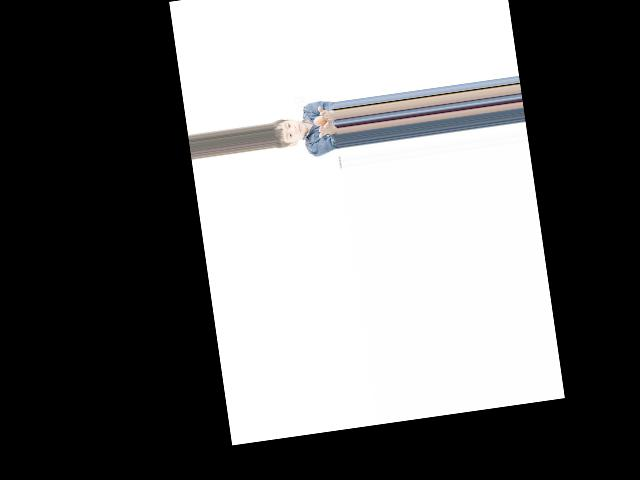egg: (313, 115, 327, 127)
